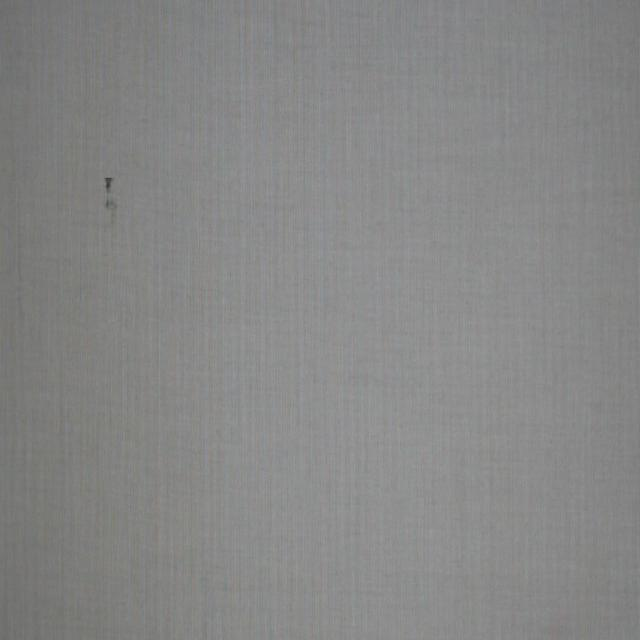dirty: (101, 174, 118, 214)
